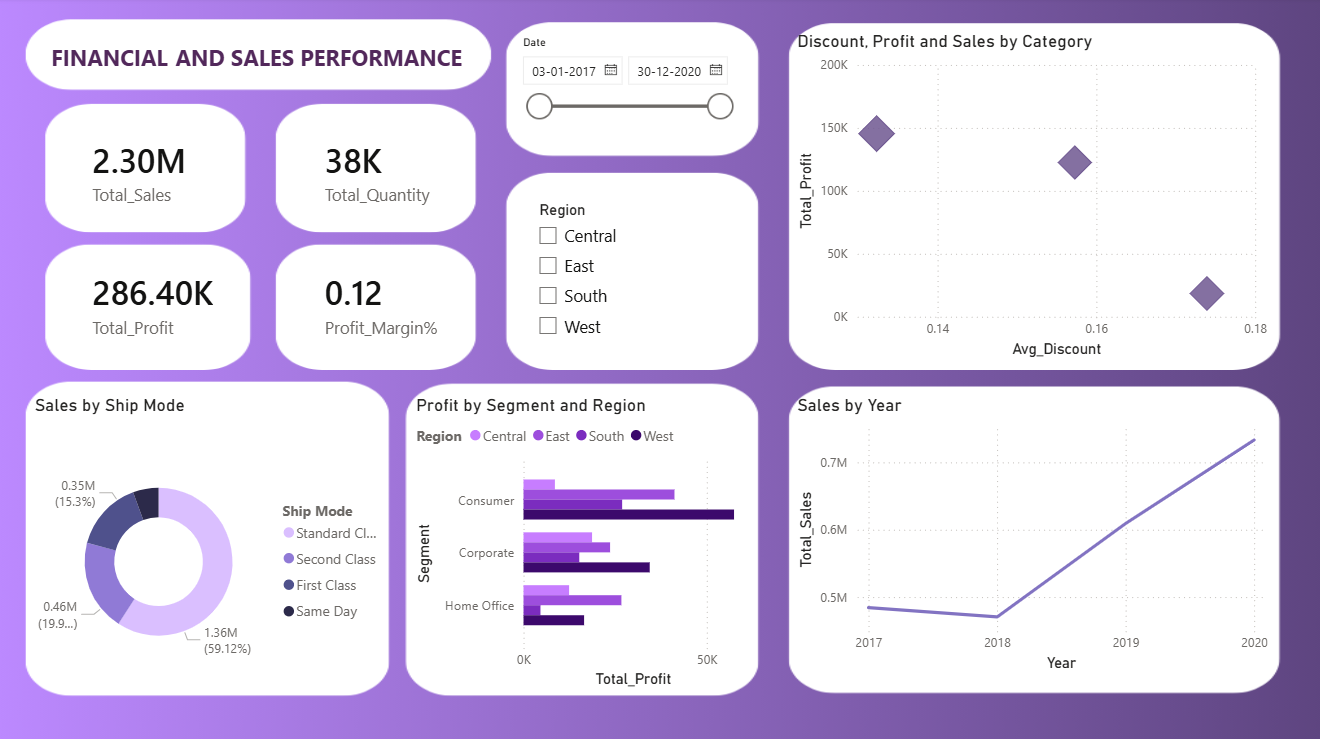

The dashboard page shown, as its layout file describes it:
{"tool":"powerbi","page":{"name":"Financial And Sales Performance","canvas":[1280,720],"ordinal":0},"visuals":[{"type":"cardVisual","fields":{"Data":["Orders.Total_Sales"]},"box":[64,112,160,112],"z":0},{"type":"cardVisual","fields":{"Data":["Orders.Total_Quantity"]},"box":[288,112,176,112],"z":1},{"type":"cardVisual","fields":{"Data":["Orders.Total_Profit"]},"box":[64,240,176,112],"z":2},{"type":"cardVisual","fields":{"Data":["Orders.Profit_Margin%"]},"box":[288,240,176,112],"z":3},{"type":"clusteredBarChart","title":"Profit by Segment and Region","fields":{"Category":["Orders.Segment"],"Series":["Orders.Region"],"Y":["Orders.Total_Profit"]},"box":[400,384,336,288],"z":5},{"type":"scatterChart","title":"Discount, Profit and Sales by Category","fields":{"Category":["Orders.Category"],"Size":["Orders.Total_Sales"],"X":["Orders.Avg_Discount"],"Y":["Orders.Total_Profit"]},"box":[768,32,464,320],"z":8},{"type":"lineChart","title":"Sales by Year","fields":{"Category":["dt_Table.Date.Variation.Date Hierarchy.Year","dt_Table.Date.Variation.Date Hierarchy.Quarter","dt_Table.Date.Variation.Date Hierarchy.Month","dt_Table.Date.Variation.Date Hierarchy.Day"],"Y":["Orders.Total_Sales"]},"box":[768,384,464,272],"z":9},{"type":"textbox","box":[48,32,416,48],"z":10},{"type":"slicer","fields":{"Values":["Orders.Region"]},"box":[512,192,208,160],"z":11},{"type":"slicer","fields":{"Values":["dt_Table.Date"]},"box":[496,32,224,112],"z":12},{"type":"donutChart","title":"Sales by Ship Mode","fields":{"Category":["Orders.Ship Mode"],"Y":["Sum(Orders.Sales)"]},"box":[32,384,352,304],"z":13}]}

Visuals, with their boxes in screenshot pixels (x1, y1, x2, y2), scaled from the page's 1280x720 canvas onto the 1320x739 screenshot:
cardVisual - Orders.Total_Sales: box(66, 115, 231, 230)
cardVisual - Orders.Total_Quantity: box(297, 115, 478, 230)
cardVisual - Orders.Total_Profit: box(66, 246, 248, 361)
cardVisual - Orders.Profit_Margin%: box(297, 246, 478, 361)
"Profit by Segment and Region" clusteredBarChart: box(412, 394, 759, 690)
"Discount, Profit and Sales by Category" scatterChart: box(792, 33, 1270, 361)
"Sales by Year" lineChart: box(792, 394, 1270, 673)
textbox: box(50, 33, 478, 82)
slicer - Orders.Region: box(528, 197, 742, 361)
slicer - dt_Table.Date: box(512, 33, 742, 148)
"Sales by Ship Mode" donutChart: box(33, 394, 396, 706)
